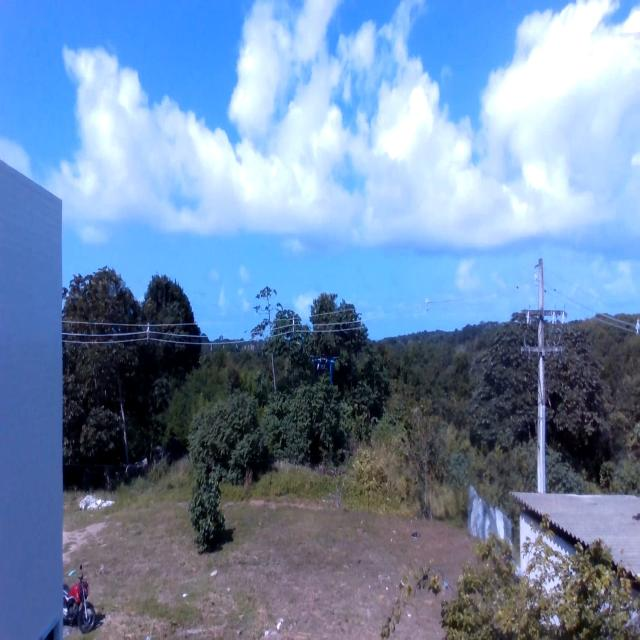-uav-: (309, 351, 335, 379)
